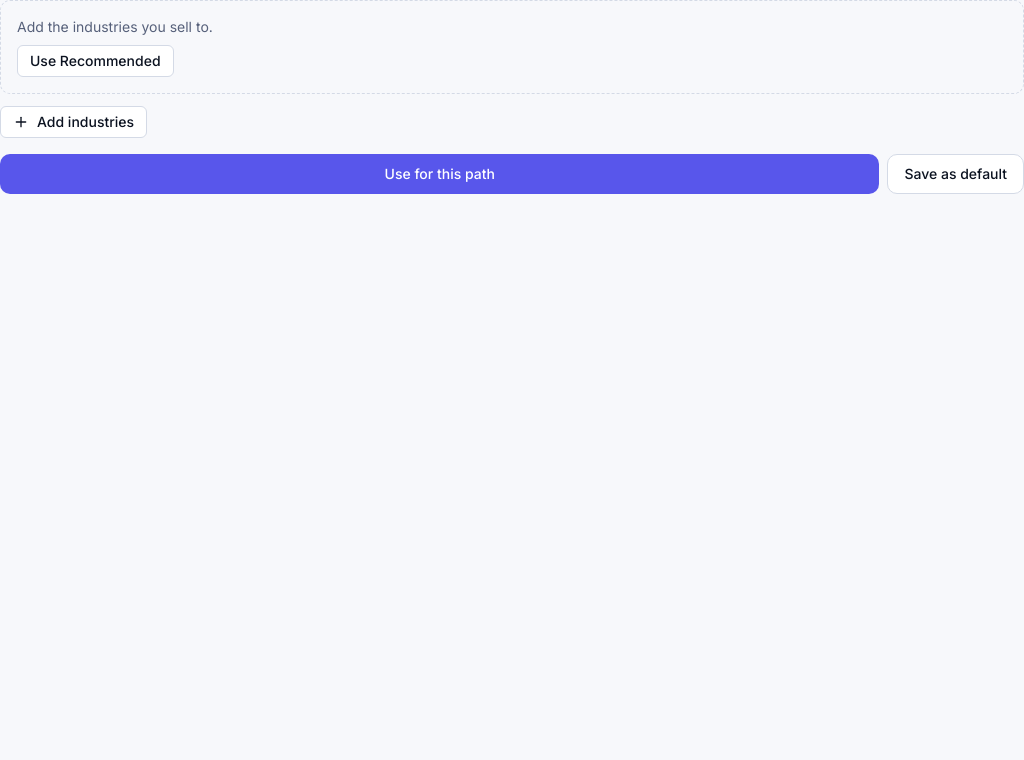
Test: IndustryEditor › Add picker offers Retail as a single flat, selectable industry
The image size is (1024, 760).
What coordinates should you click on to do the following:
click the button "Add industries"
I would click on:
 (74, 122)
Its box is [0,106,147,138].
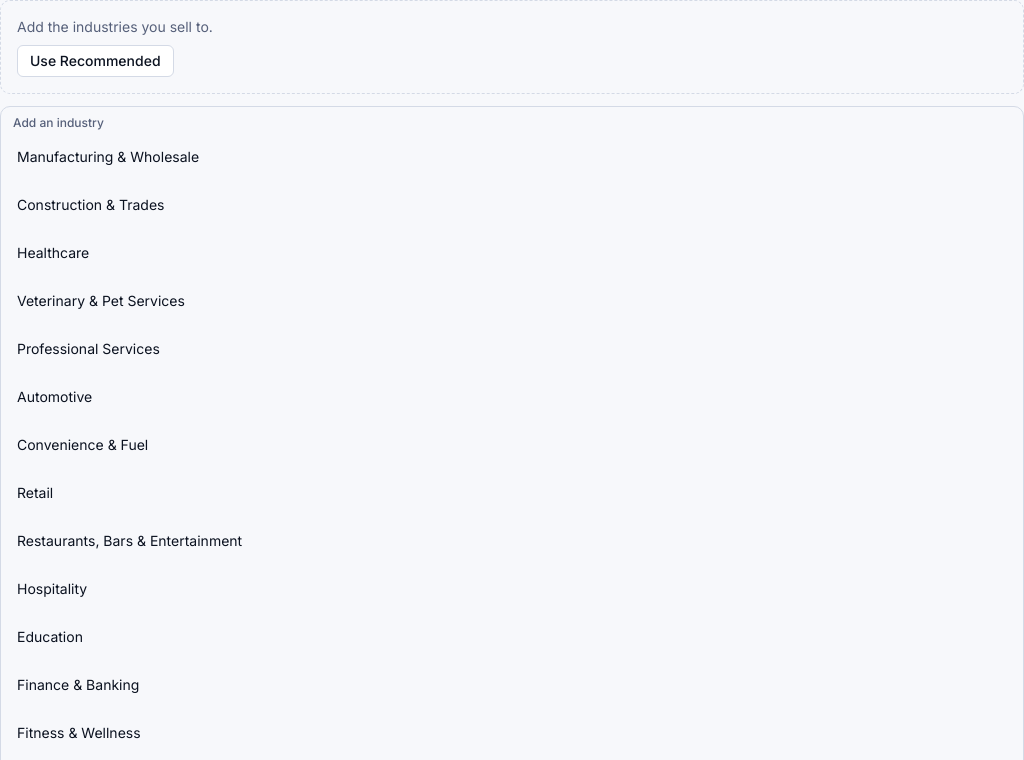
Expected: the button "Retail" is shown, [9,471,1015,515]
Expected: the button "Restaurants, Bars & Entertainment" is shown, [9,519,1015,563]
Expected: the button "Healthcare" is shown, [9,231,1015,275]
